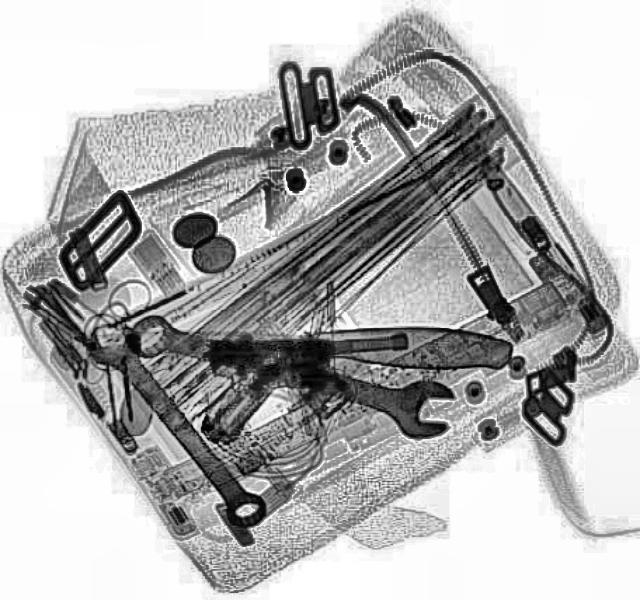Gun: (199, 329, 407, 442)
Knife: (100, 314, 512, 369)
Wrench: (117, 295, 461, 447), (74, 312, 278, 536)
